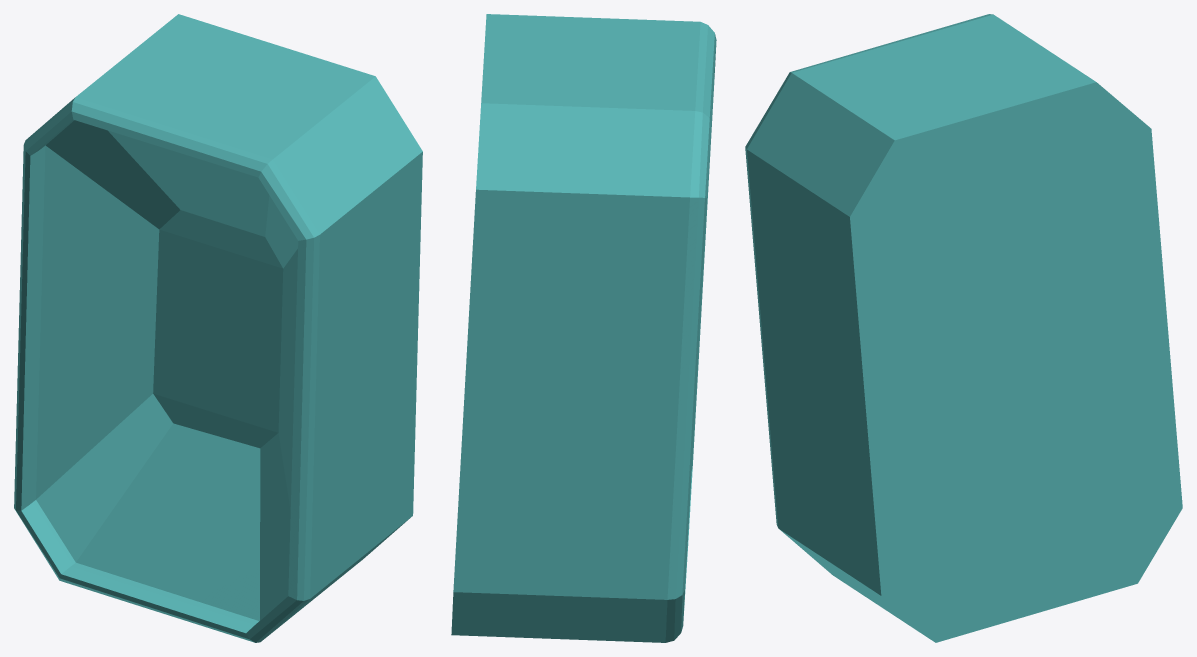
File: BL4_8shapes_Emerald_Classic_Metal.001 3.glb
3 views of the same model, side by side, from view 1: azimuth 30°, elevation 25°; view 2: azimuth 150°, elevation 25°; view 3: azimuth 270°, elevation 25° (orthographic). The views are drawn at different scales.
Parts seen in each view (by area): view 1: BL4_8shapes_Emerald_Classic_Metal.001; view 2: BL4_8shapes_Emerald_Classic_Metal.001; view 3: BL4_8shapes_Emerald_Classic_Metal.001.
Boxes of the visible parts, x1,y1,x2,y2 form: BL4_8shapes_Emerald_Classic_Metal.001: [14, 14, 422, 642]; BL4_8shapes_Emerald_Classic_Metal.001: [451, 14, 716, 642]; BL4_8shapes_Emerald_Classic_Metal.001: [745, 14, 1182, 642].
Size of the model in its own units: 0.4191 by 0.6687 by 0.5123.
